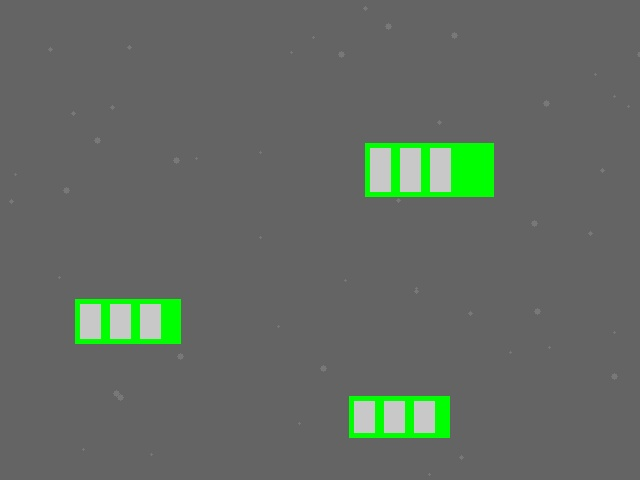bus: (365, 143, 493, 196), (75, 299, 180, 343), (349, 396, 449, 437)
